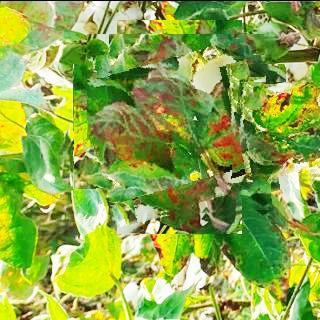blight: (87, 33, 272, 218), (231, 81, 320, 182)
